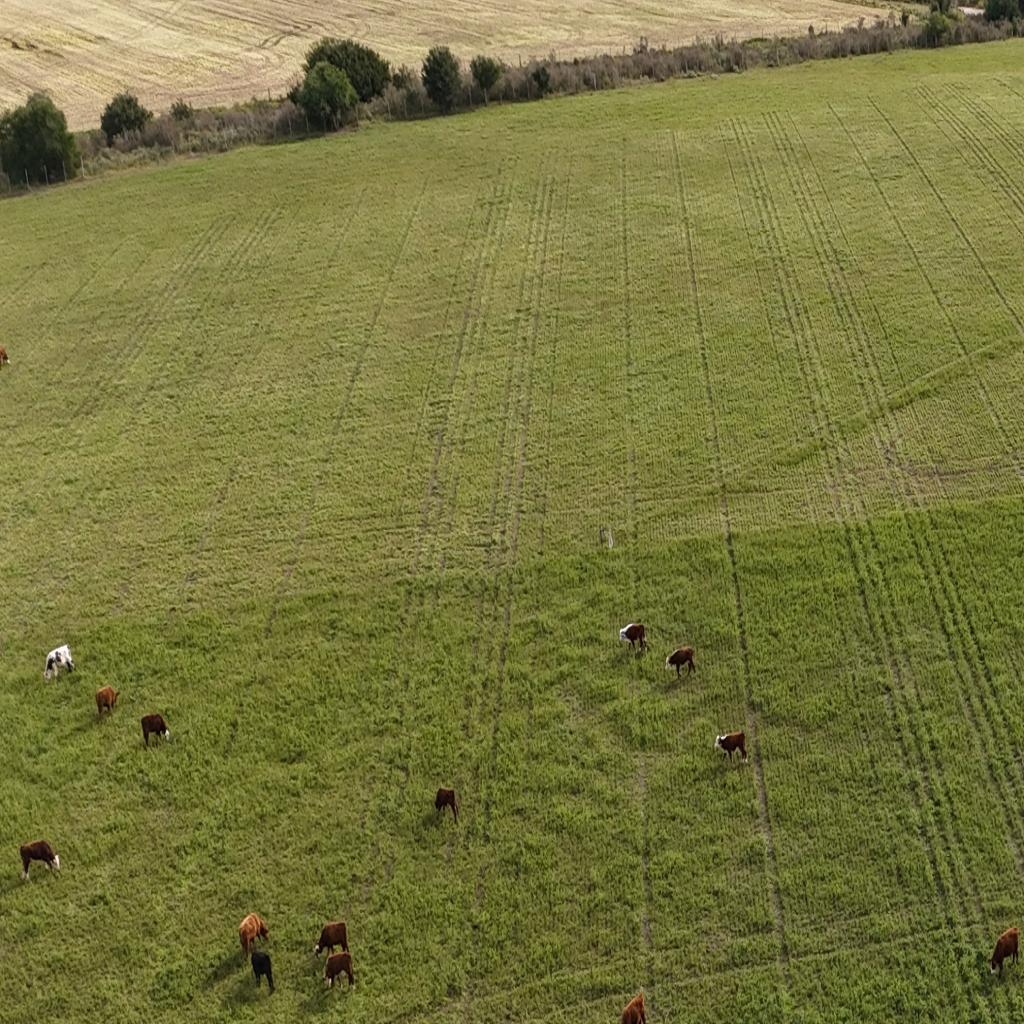cow: (18, 837, 62, 882), (238, 912, 270, 960), (989, 926, 1019, 976), (324, 950, 356, 991), (314, 921, 349, 958), (44, 642, 76, 681), (714, 730, 748, 764), (664, 646, 696, 678), (142, 713, 172, 746), (619, 622, 648, 655), (434, 787, 460, 822), (96, 686, 120, 721)
